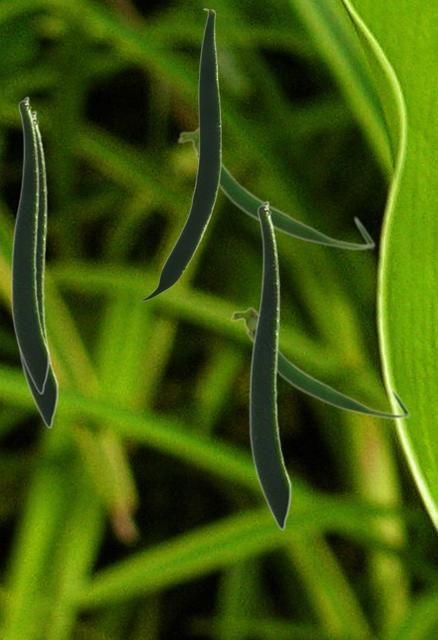french_bean: (176, 126, 375, 250), (139, 8, 220, 300), (229, 305, 410, 419), (248, 200, 291, 530), (16, 110, 58, 428), (10, 96, 49, 394)
